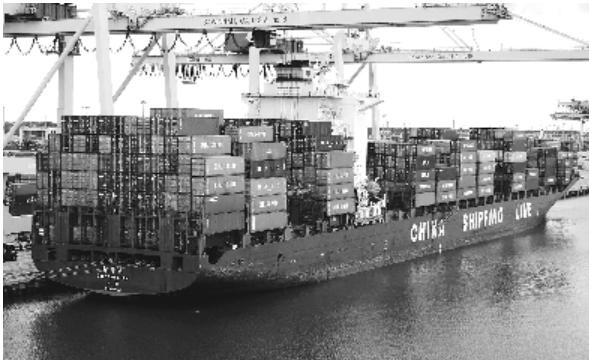Cargoship: (18, 113, 585, 300)
